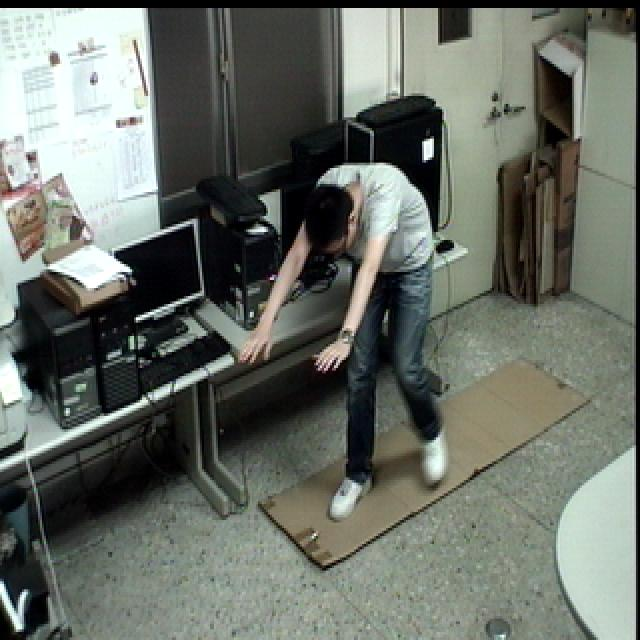bend: (232, 154, 462, 526)
